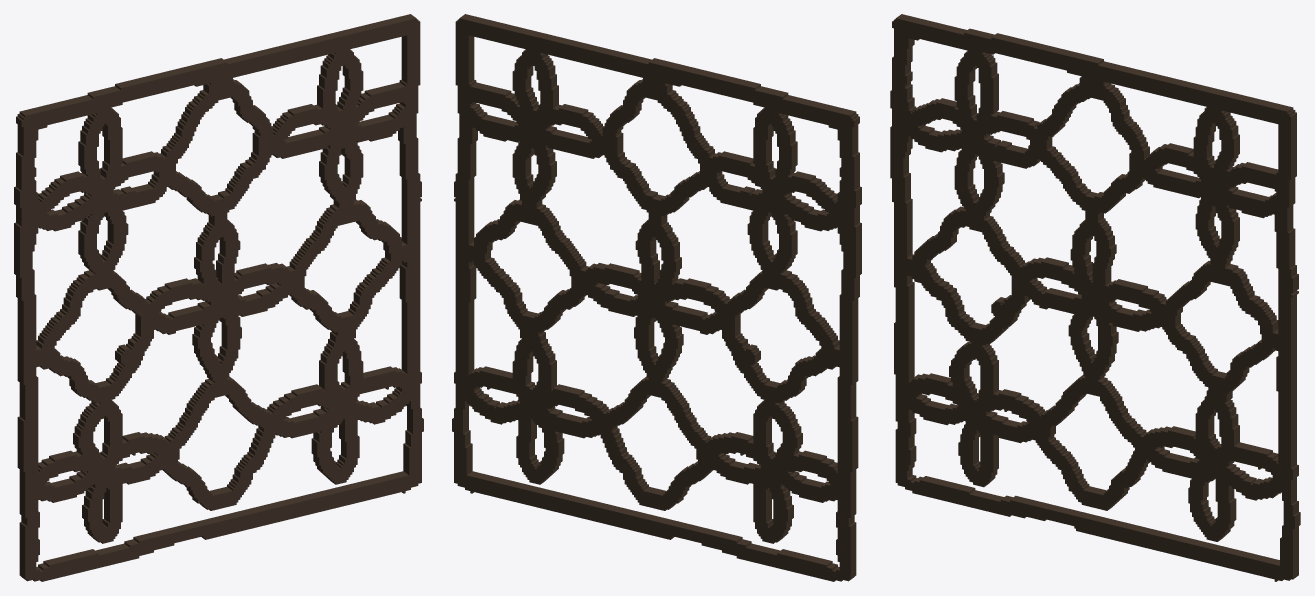
File: lattice_window.glb
The picture shows the model from 3 angles, left to right: view 1: azimuth 30°, elevation 25°; view 2: azimuth 150°, elevation 25°; view 3: azimuth 330°, elevation 25°; orthographic projection.
Parts seen in each view (by area): view 1: Lattice_Silhouette; view 2: Lattice_Silhouette; view 3: Lattice_Silhouette.
Boxes of the visible parts, box(x1,y1,x2,y2) form: Lattice_Silhouette: box(14, 14, 423, 581); Lattice_Silhouette: box(452, 14, 861, 581); Lattice_Silhouette: box(890, 14, 1300, 581).
Size of the model in its own units: 1.5 by 1.68 by 0.0375.
